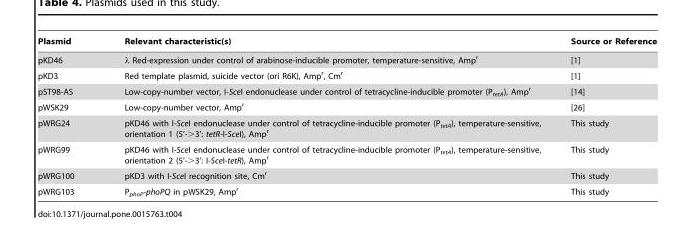table: (37, 36, 656, 196)
table column: (98, 36, 555, 196), (555, 36, 656, 196), (37, 36, 98, 196)
table column header: (37, 36, 656, 49)
table row: (37, 115, 656, 141), (37, 141, 656, 167), (37, 49, 656, 67), (37, 98, 656, 115), (37, 82, 656, 98), (37, 67, 656, 82), (37, 167, 656, 182), (37, 182, 656, 196), (37, 36, 656, 49)
